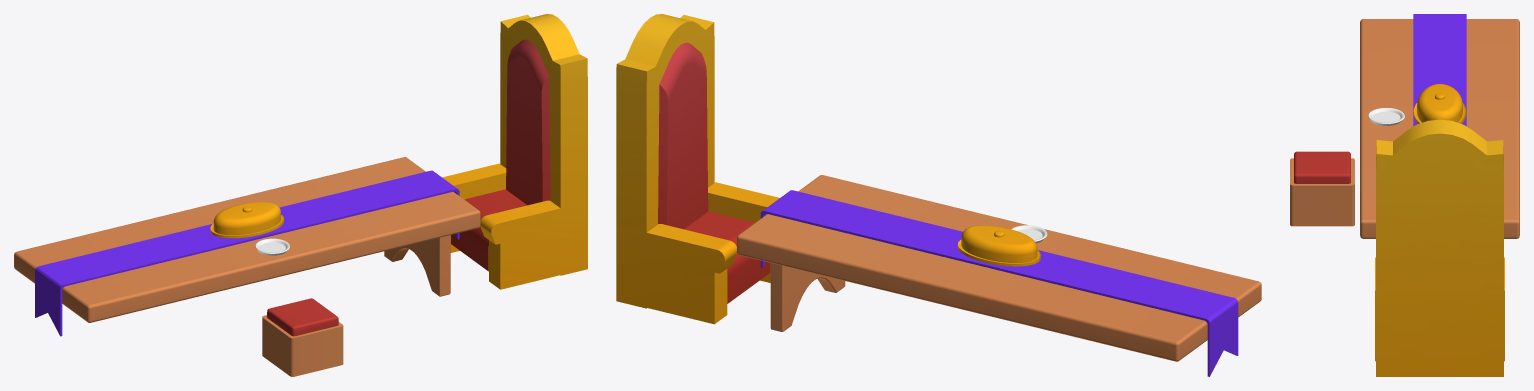
The model's file is kingTable.fbx.
3 views of the same model, side by side, from view 1: azimuth 30°, elevation 25°; view 2: azimuth 150°, elevation 25°; view 3: azimuth 270°, elevation 25° (orthographic). The views are drawn at different scales.
Parts seen in each view (by area): view 1: kingChair, tableTop, polySurface2, chair, bigPlate, tableLeg, plate; view 2: kingChair, tableTop, polySurface2, bigPlate, tableLeg; view 3: kingChair, tableTop, chair, polySurface2, bigPlate, plate.
Boxes of the visible parts, x1=… form: kingChair: x1=442, y1=14, x2=587, y2=289; tableTop: x1=14, y1=157, x2=480, y2=322; polySurface2: x1=35, y1=170, x2=459, y2=336; chair: x1=262, y1=298, x2=343, y2=376; bigPlate: x1=210, y1=202, x2=284, y2=238; tableLeg: x1=384, y1=235, x2=450, y2=296; plate: x1=255, y1=238, x2=289, y2=255; kingChair: x1=616, y1=14, x2=779, y2=324; tableTop: x1=737, y1=175, x2=1261, y2=361; polySurface2: x1=760, y1=190, x2=1238, y2=376; bigPlate: x1=957, y1=225, x2=1040, y2=266; tableLeg: x1=770, y1=263, x2=845, y2=331; kingChair: x1=1375, y1=119, x2=1504, y2=376; tableTop: x1=1360, y1=19, x2=1519, y2=238; chair: x1=1290, y1=151, x2=1354, y2=226; polySurface2: x1=1413, y1=14, x2=1466, y2=126; bigPlate: x1=1413, y1=84, x2=1466, y2=123; plate: x1=1368, y1=108, x2=1404, y2=125.
Bounding box in the file's own units: 55.04 × 23.71 × 20.27.
